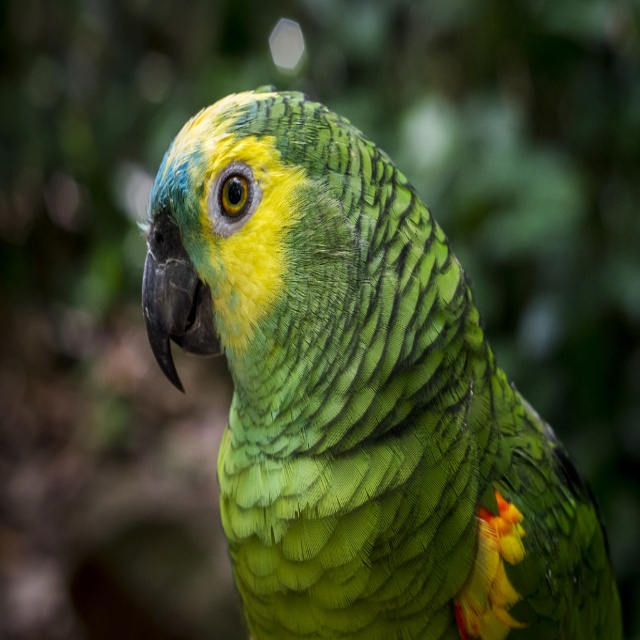Parrot: (138, 77, 635, 639)
